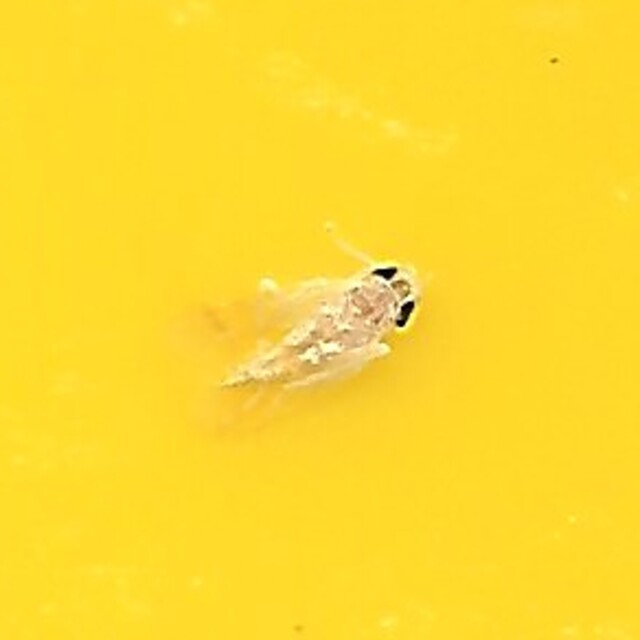Hemiptera: (219, 232, 421, 408)
